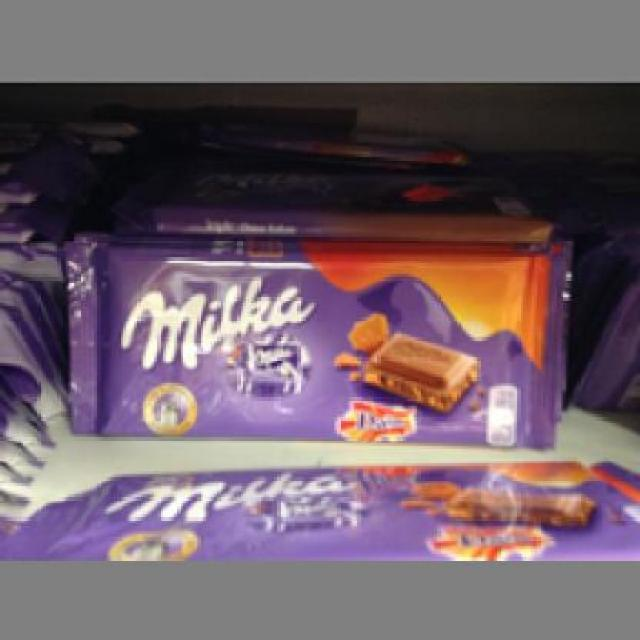Chocolate: (53, 232, 570, 448), (0, 453, 635, 558)
